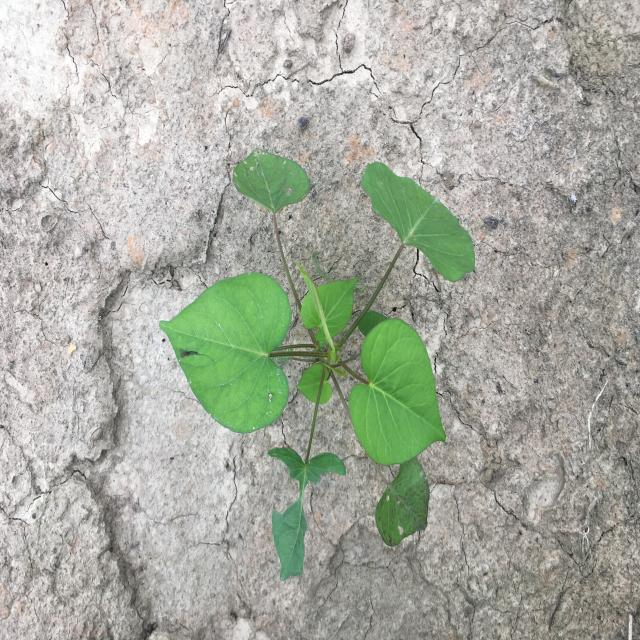MorningGlory: (159, 146, 476, 581)
